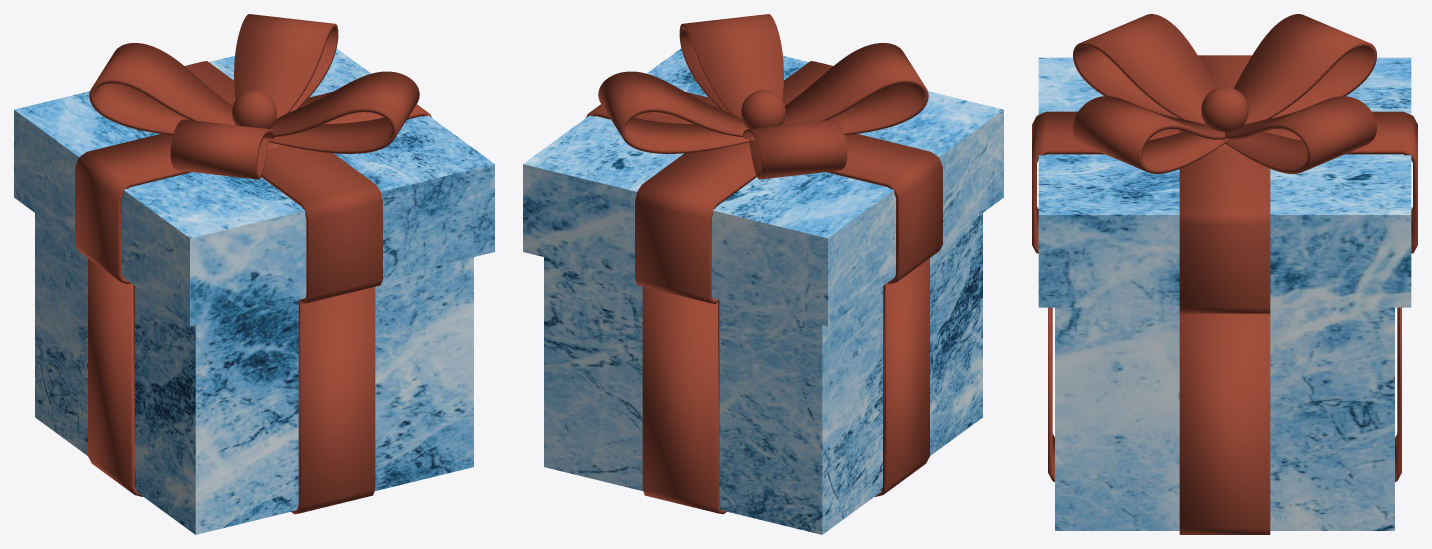
The model's file is small2.fbx.
3 views of the same model, side by side, from view 1: azimuth 30°, elevation 25°; view 2: azimuth 150°, elevation 25°; view 3: azimuth 270°, elevation 25° (orthographic). The views are drawn at different scales.
Visible parts, largest first — view 1: Cube, Cube.001, NURBSパス, 球; view 2: Cube, Cube.001, NURBSパス, 球; view 3: Cube, Cube.001, NURBSパス, 球.
Boxes of the visible parts, x1,y1,x2,y2 form: Cube: (14, 48, 494, 534); Cube.001: (75, 61, 431, 514); NURBSパス: (89, 14, 419, 179); 球: (232, 90, 276, 128); Cube: (523, 48, 1003, 534); Cube.001: (586, 61, 942, 514); NURBSパス: (598, 14, 928, 179); 球: (741, 90, 785, 128); Cube: (1038, 57, 1411, 530); Cube.001: (1032, 55, 1417, 534); NURBSパス: (1073, 14, 1376, 173); 球: (1201, 86, 1248, 132).
Bounding box in the file's own units: 30.86 × 34.85 × 30.86.
